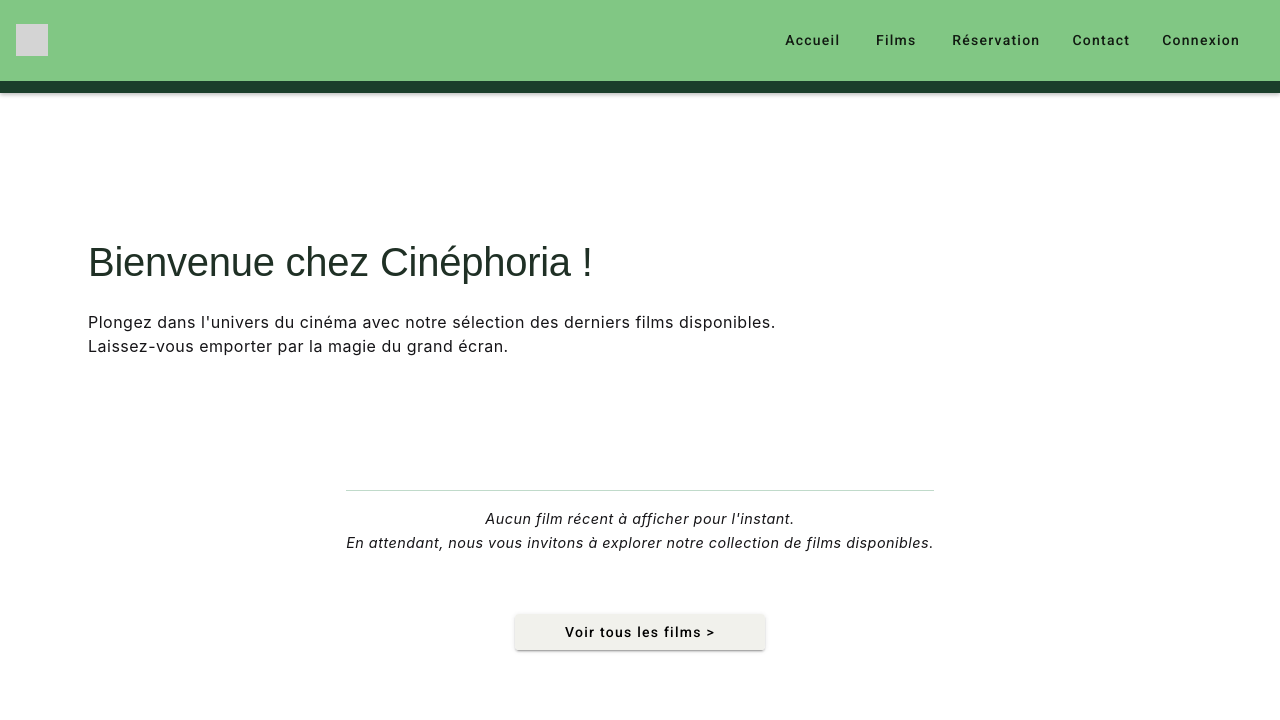
Test: Employee login e2e Tests › should show an error message for incorrect credentials
Step 1. Click the button "Connexion" → [1201, 40], box [1154, 22, 1248, 58]
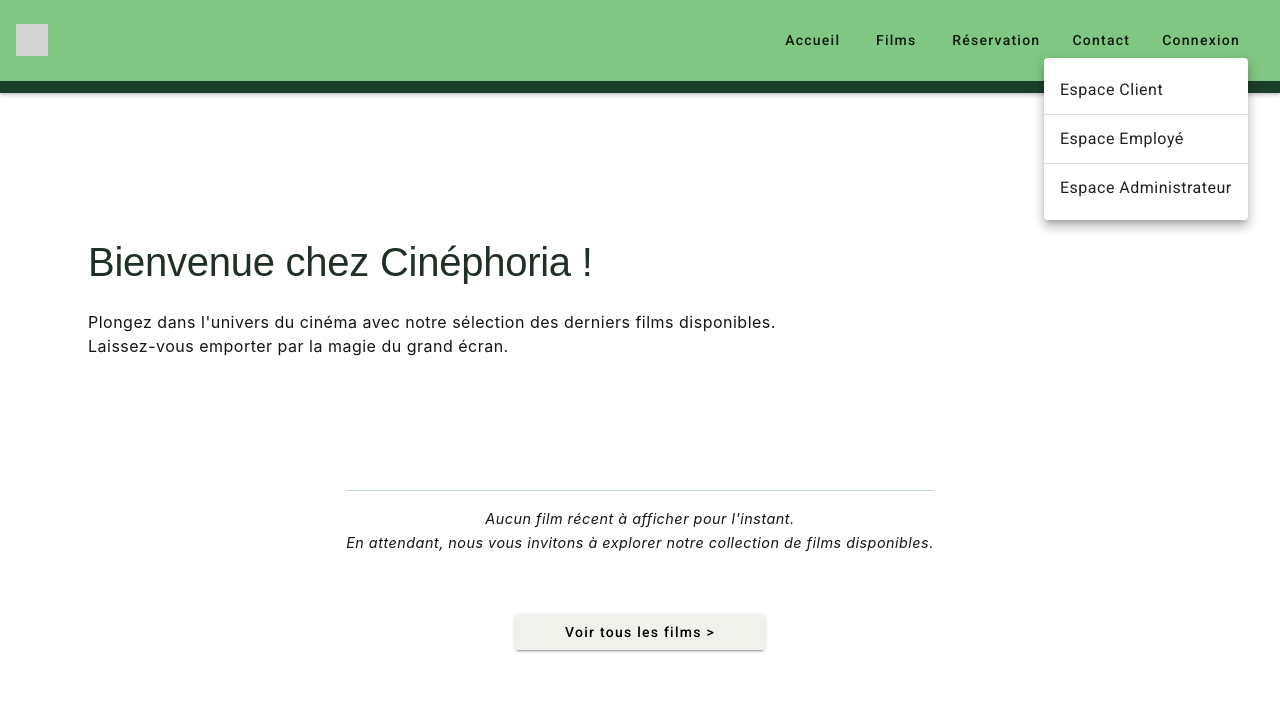
Expected: the element showing "Espace Client Espace Employé Espace Administrateur" is shown, [1060, 80, 1232, 197]
Expected: the menu item "Espace Employé" is shown
Step 2. Click the menu item "Espace Employé" → [1122, 139], box [1060, 129, 1184, 148]
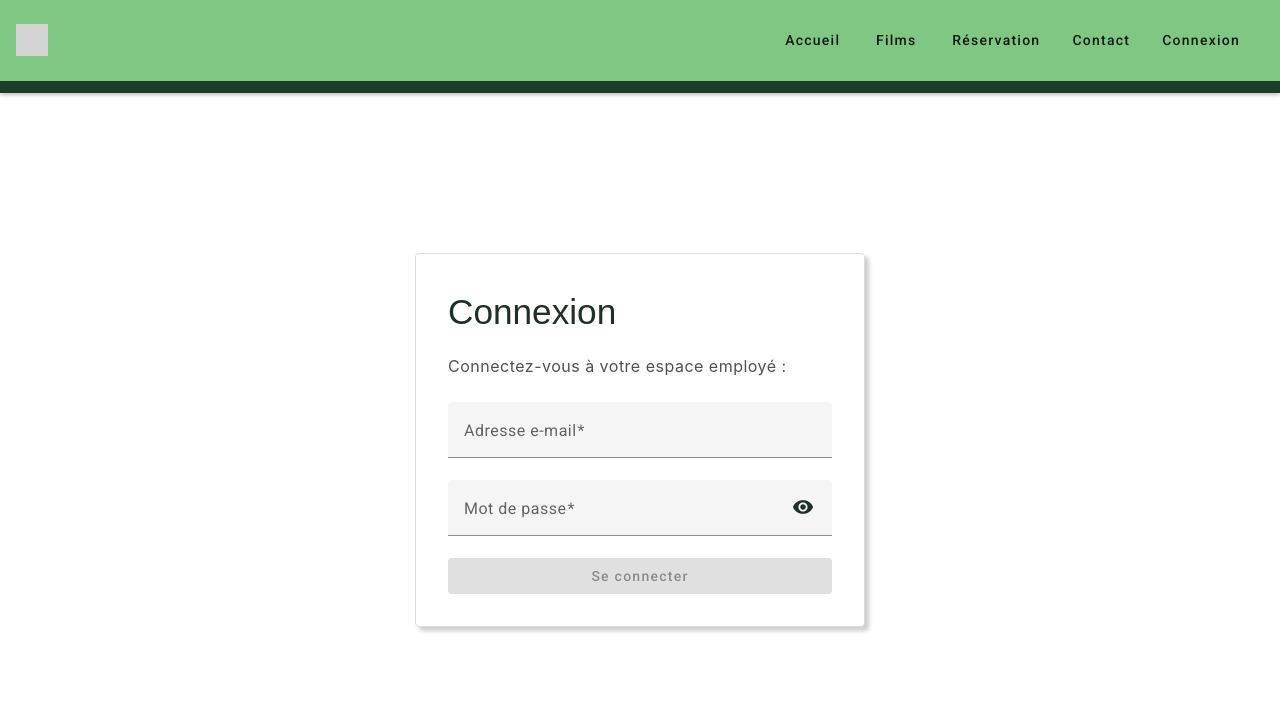
Step 3. Type "testingrandomemailaddress@madeupadress.com" into the field named "email" → [640, 438], box [464, 426, 816, 450]
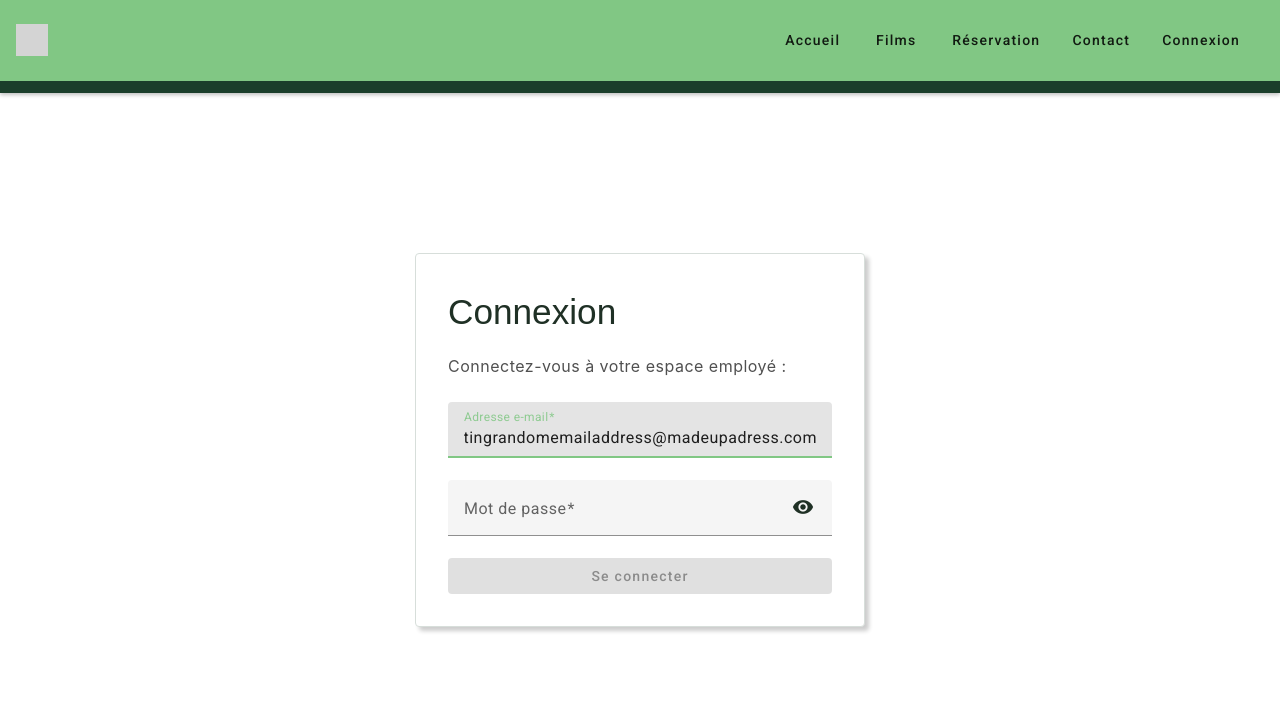
Step 4. Type "StrongPassword123!" into the password field named "password" → [617, 516], box [464, 504, 770, 528]
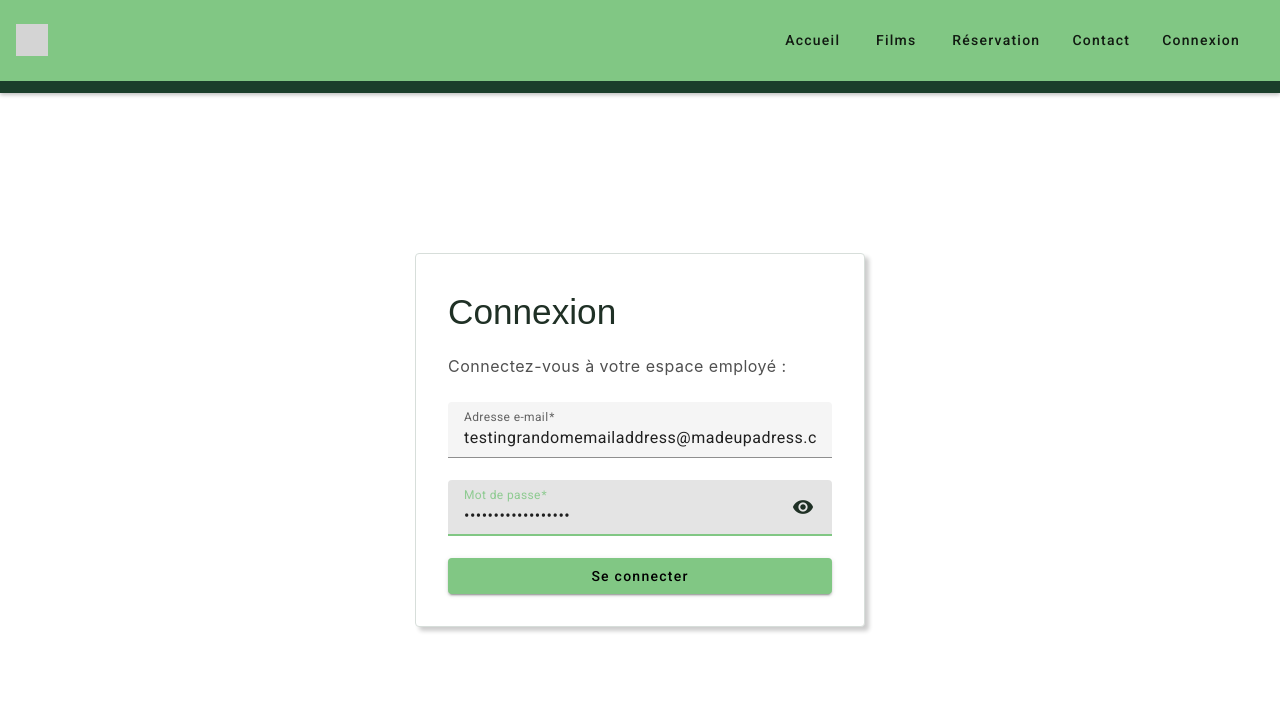
Step 5. Click the submit button → [640, 576], box [448, 558, 832, 594]
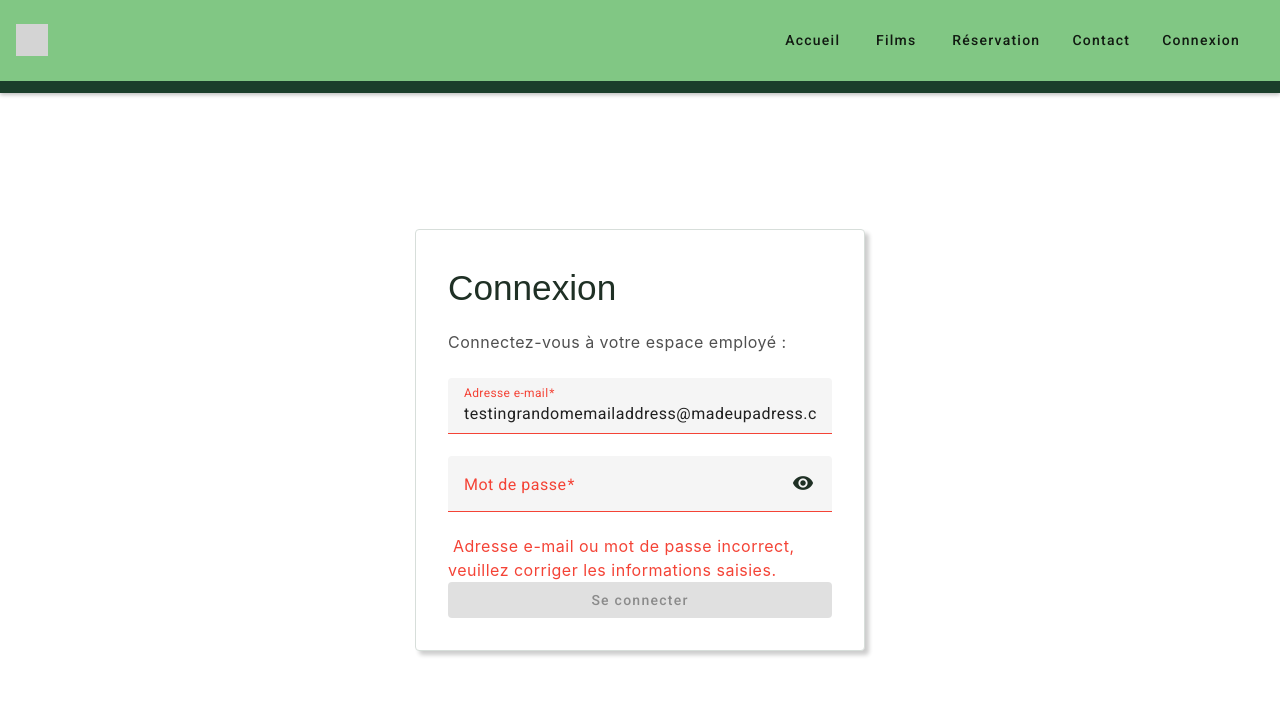
Expected: the text "Adresse e-mail ou mot de passe incorrect, veuillez corriger les informations saisies." is shown, [448, 536, 795, 580]
